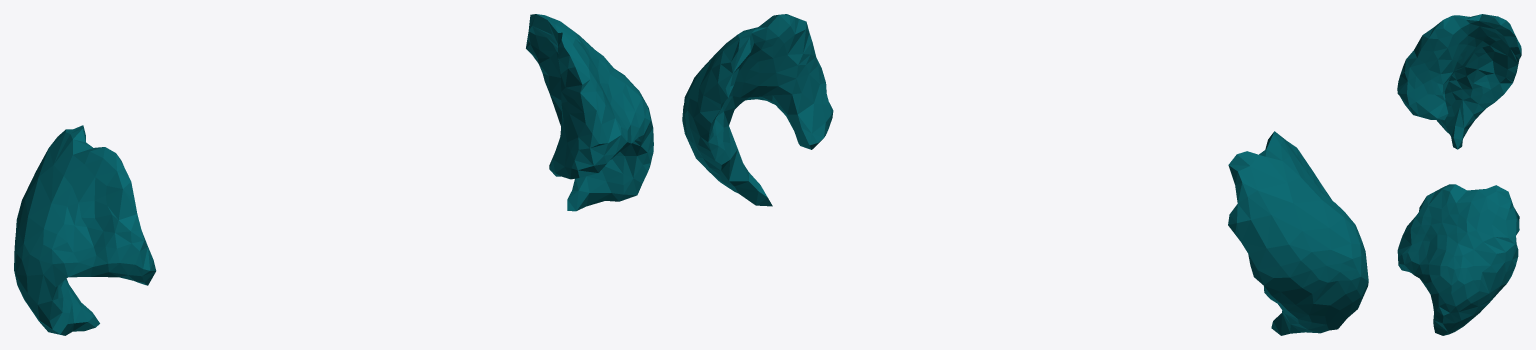
Rendered from 168-eml-external medullary lamina-('0.0000', '0.4588', '0.4980').obj.
The picture shows the model from 3 angles, left to right: view 1: azimuth 30°, elevation 25°; view 2: azimuth 150°, elevation 25°; view 3: azimuth 270°, elevation 25°; orthographic projection. The views are drawn at different scales.
Bounding box in the file's own units: 191 × 52.56 × 43.23.
